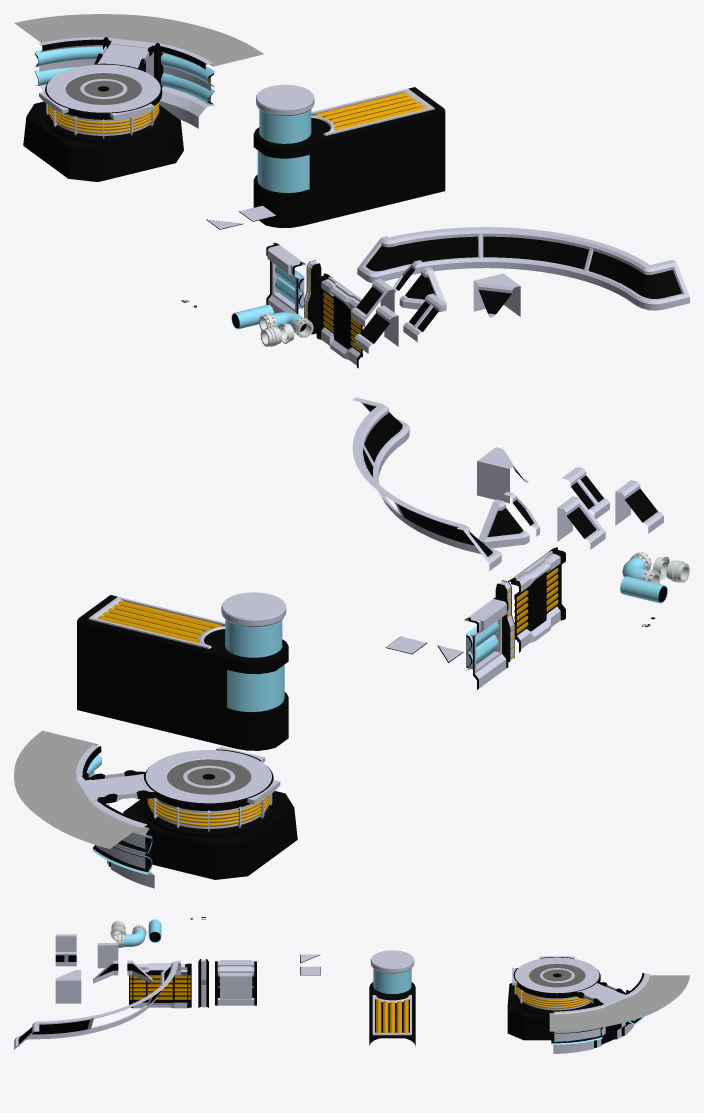
Rendered from Modular_Assets_GRP.fbx.
3 renders of one model, top to bottom at view 1: azimuth 30°, elevation 25°; view 2: azimuth 150°, elevation 25°; view 3: azimuth 270°, elevation 25°, orthographic. The views are drawn at different scales.
Visible parts, largest first — view 1: Water_Resivoir_GEO, Wall_GiantCurve_GEO, CPU_Cooler_GEO, Base_GEO, Curved_Floor, Large_Curved_Wall_GEO, Large_Wall_GEO, Curved_Pipe_Inlay_GEO, Large_WaterCooled_Pannel_GEO, Grating_GEO, Wall_Inner_Corner_GEO, Wall_Straight2_GEO (+7 smaller); view 2: Water_Resivoir_GEO, CPU_Cooler_GEO, Curved_Floor, Base_GEO, Wall_GiantCurve_GEO, Large_Wall_GEO, Large_WaterCooled_Pannel_GEO, Large_Curved_Wall_GEO, Grating_GEO, Wall_Inner_Corner_GEO, Wall_OuterEnd_Inveted_GEO, Wall_InnerEnd_GEO (+7 smaller); view 3: Water_Resivoir_GEO, Curved_Floor, CPU_Cooler_GEO, Wall_GiantCurve_GEO, Large_Wall_GEO, Large_Curved_Wall_GEO, Large_WaterCooled_Pannel_GEO, Base_GEO, Grating_GEO, Wall_Inner_Corner_GEO, SmallBridge_GEO, Large_Pillar_GEO (+7 smaller).
Boxes of the visible parts, bbox=[...] form: Water_Resivoir_GEO: bbox=[253, 84, 445, 228]; Wall_GiantCurve_GEO: bbox=[357, 227, 689, 310]; CPU_Cooler_GEO: bbox=[39, 61, 162, 143]; Base_GEO: bbox=[23, 101, 183, 181]; Curved_Floor: bbox=[14, 14, 263, 66]; Large_Curved_Wall_GEO: bbox=[38, 37, 212, 128]; Large_Wall_GEO: bbox=[316, 273, 362, 368]; Curved_Pipe_Inlay_GEO: bbox=[34, 46, 214, 106]; Large_WaterCooled_Pannel_GEO: bbox=[266, 242, 305, 313]; Grating_GEO: bbox=[65, 73, 141, 104]; Wall_Inner_Corner_GEO: bbox=[473, 273, 520, 317]; Wall_Straight2_GEO: bbox=[354, 305, 398, 353]; Water_Resivoir_GEO: bbox=[77, 592, 288, 750]; CPU_Cooler_GEO: bbox=[138, 746, 280, 836]; Curved_Floor: bbox=[14, 730, 139, 848]; Base_GEO: bbox=[123, 791, 297, 879]; Wall_GiantCurve_GEO: bbox=[352, 397, 501, 570]; Large_Wall_GEO: bbox=[508, 547, 565, 652]; Large_WaterCooled_Pannel_GEO: bbox=[464, 596, 508, 689]; Large_Curved_Wall_GEO: bbox=[74, 745, 154, 888]; Grating_GEO: bbox=[167, 759, 250, 794]; Wall_Inner_Corner_GEO: bbox=[477, 447, 528, 503]; Wall_OuterEnd_Inveted_GEO: bbox=[478, 499, 529, 548]; Wall_InnerEnd_GEO: bbox=[557, 496, 605, 549]; Water_Resivoir_GEO: bbox=[369, 950, 415, 1045]; Curved_Floor: bbox=[549, 975, 689, 1031]; CPU_Cooler_GEO: bbox=[512, 956, 600, 1015]; Wall_GiantCurve_GEO: bbox=[14, 960, 180, 1049]; Large_Wall_GEO: bbox=[129, 963, 191, 1008]; Large_Curved_Wall_GEO: bbox=[553, 973, 649, 1053]; Large_WaterCooled_Pannel_GEO: bbox=[215, 960, 256, 1005]; Base_GEO: bbox=[507, 983, 554, 1040]; Grating_GEO: bbox=[529, 963, 585, 987]; Wall_Inner_Corner_GEO: bbox=[55, 970, 81, 1003]; SmallBridge_GEO: bbox=[572, 981, 626, 1004]; Large_Pillar_GEO: bbox=[198, 959, 208, 1007].
Size of the model in its own units: 10908 by 3242 by 22714.
